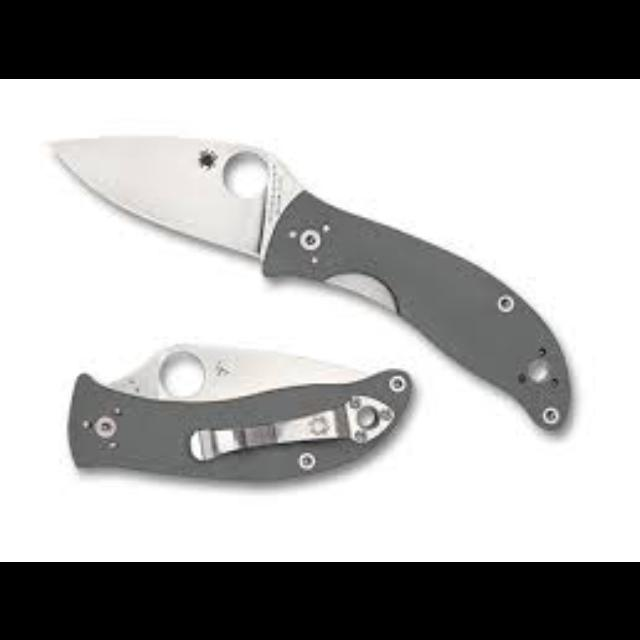Knife: (48, 130, 570, 430)
